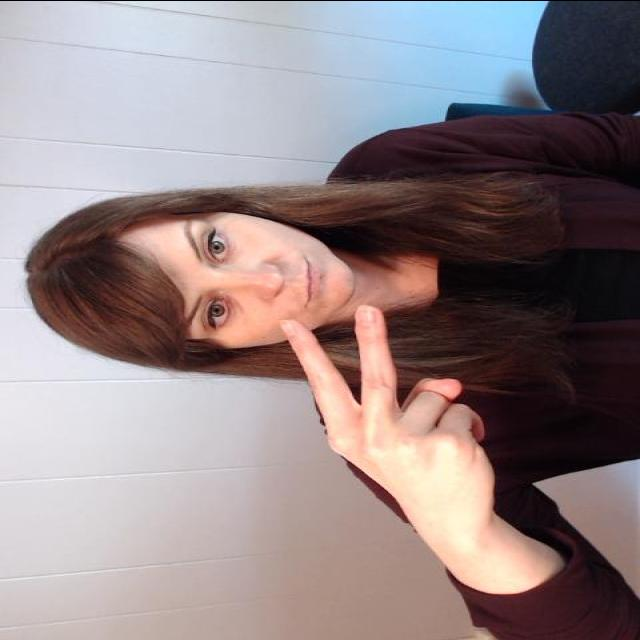Scissors: (274, 308, 500, 515)
